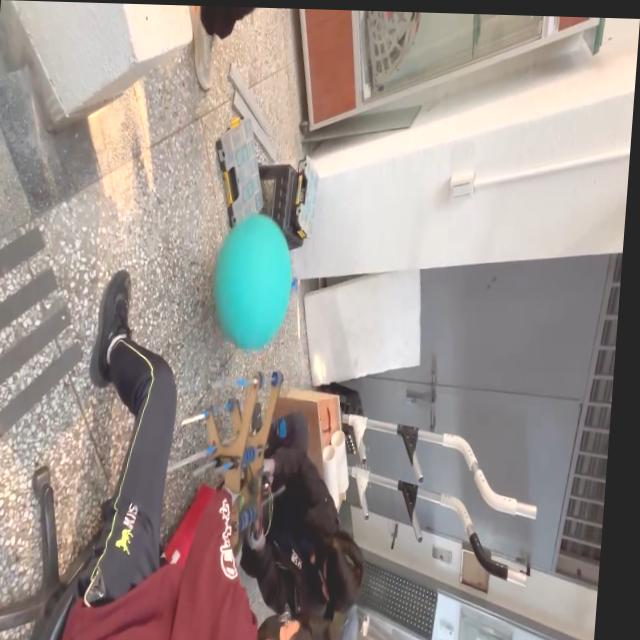ALGAE: (206, 209, 298, 354)
